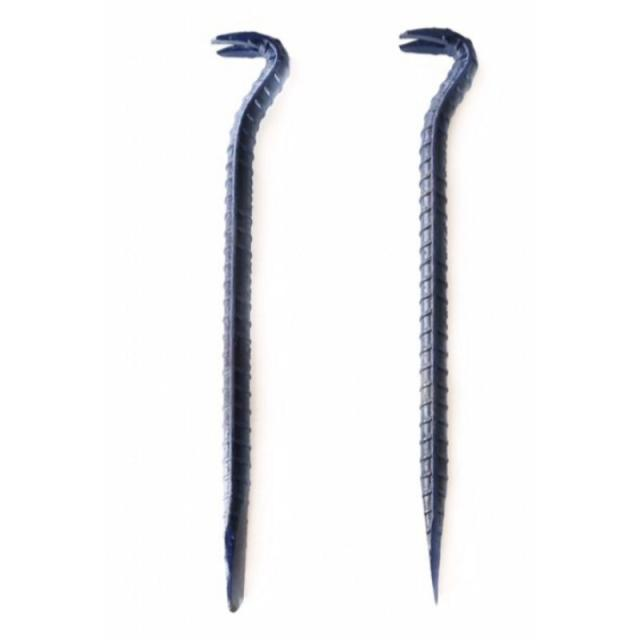Linggis: (208, 32, 290, 614)
